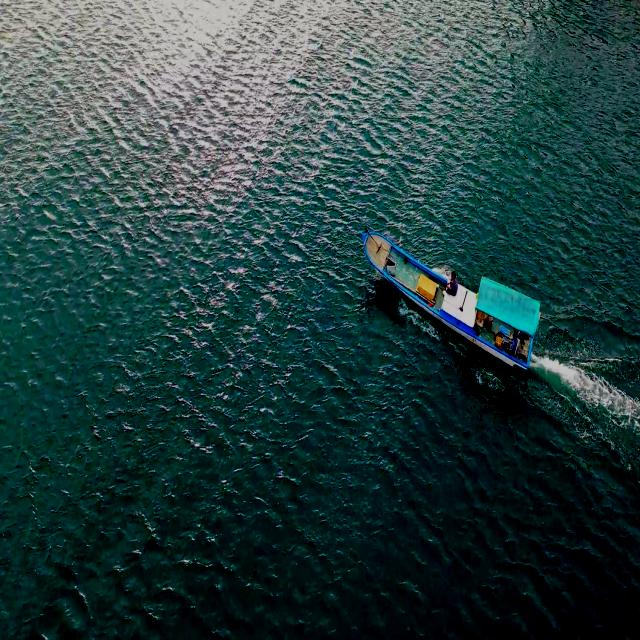ship: (362, 224, 538, 387)
